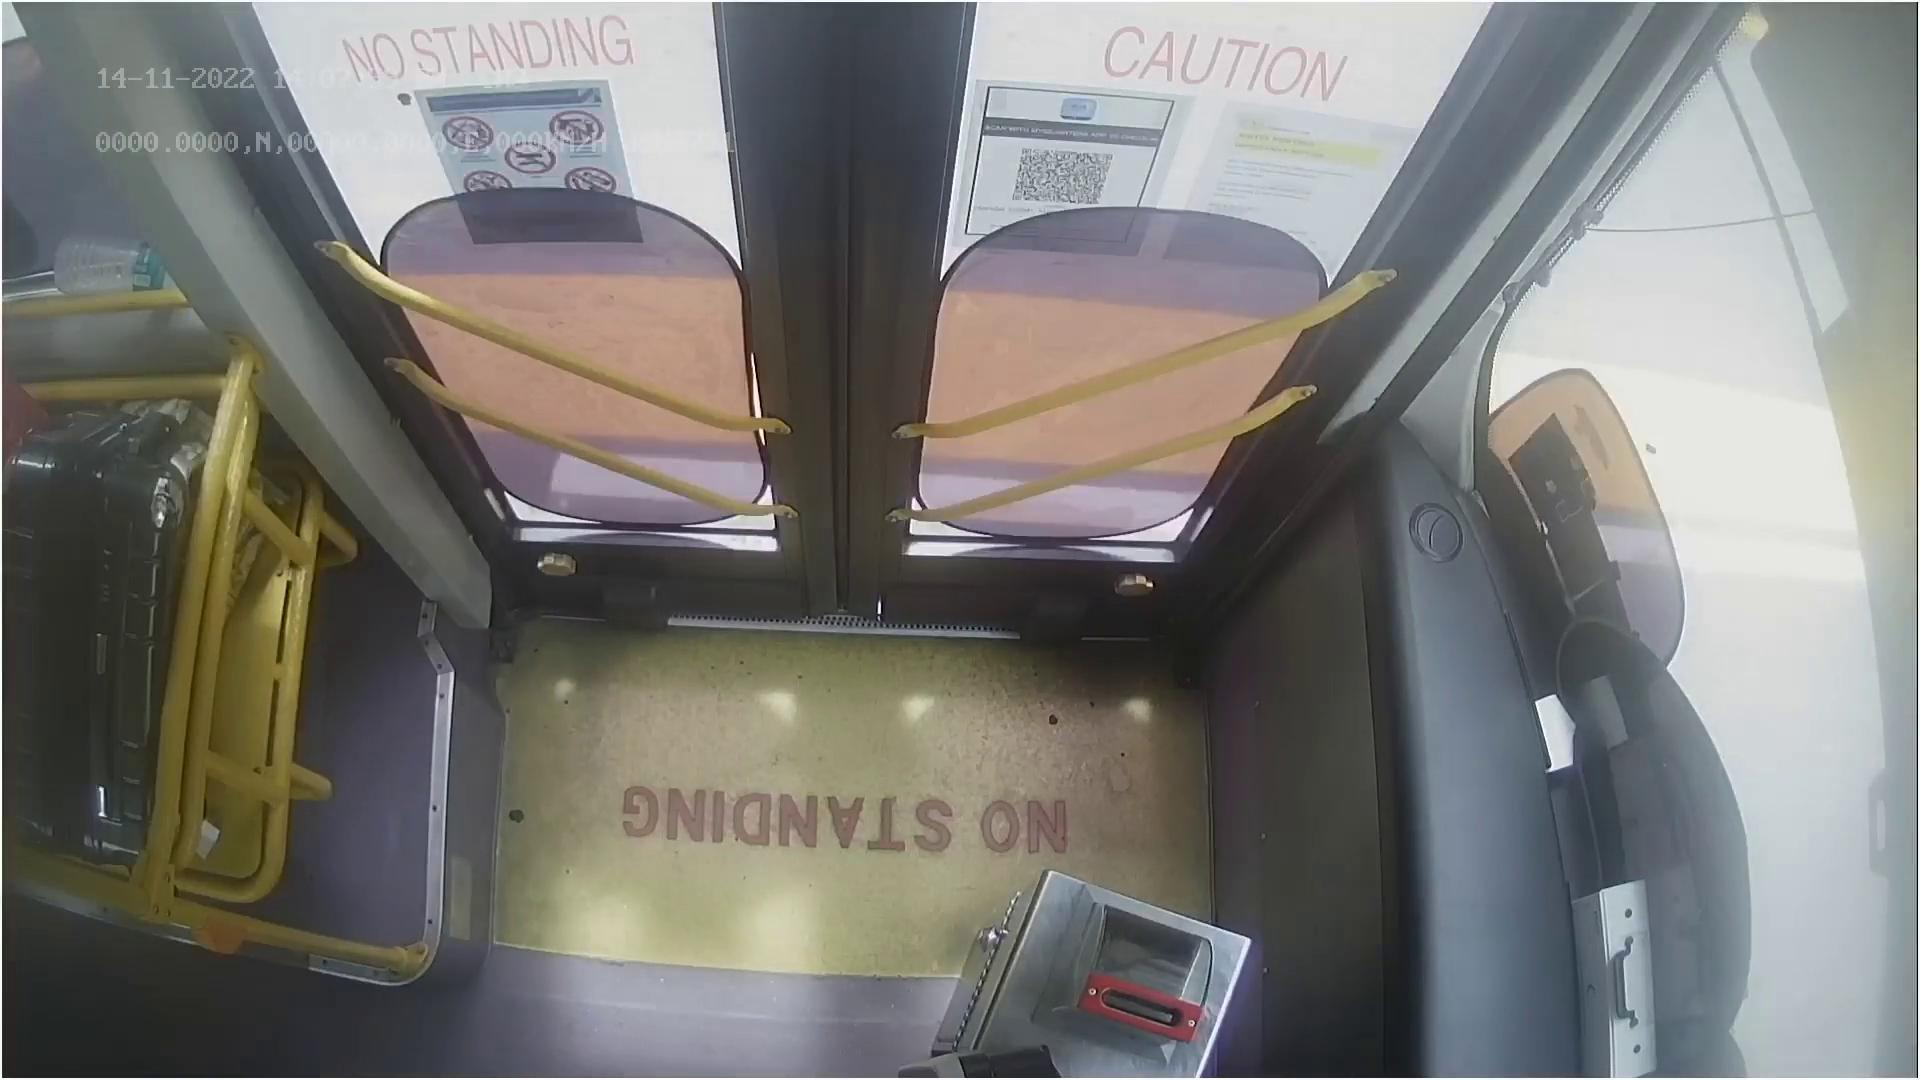close: (284, 0, 1436, 173)
